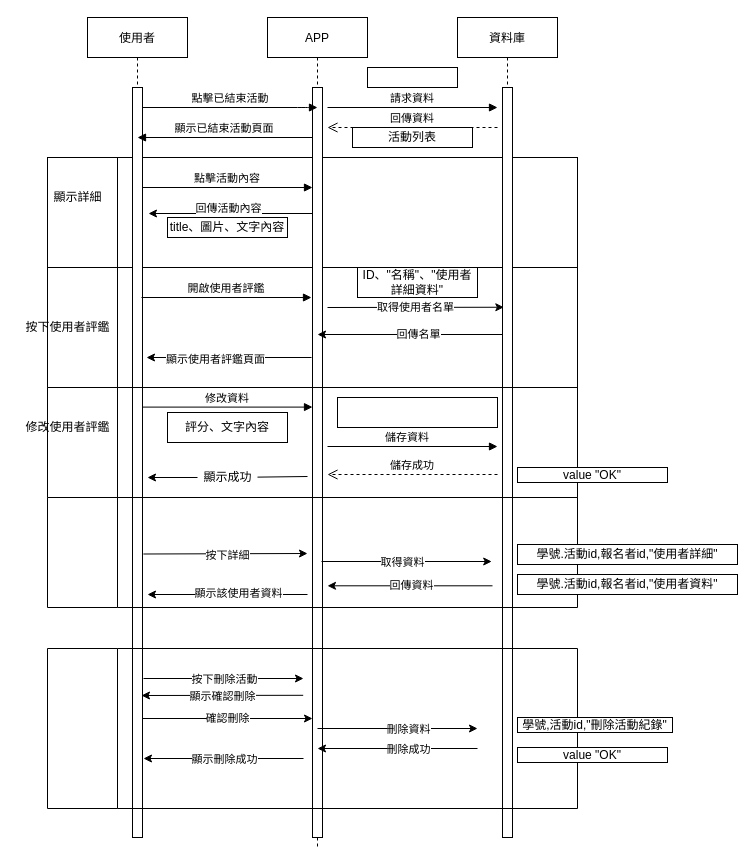
This 755x865 diagram has some shape labels left out. The shapes that lost their labels are listed below. From the top down, each one's centre as x and y in pixels, then its label:
At [412,77]: "ID".
At [417,412]: "(評分、文字內容)資料庫更新".
At [312,552]: "按下使用者詳細".
At [312,728]: "刪除活動紀錄".
